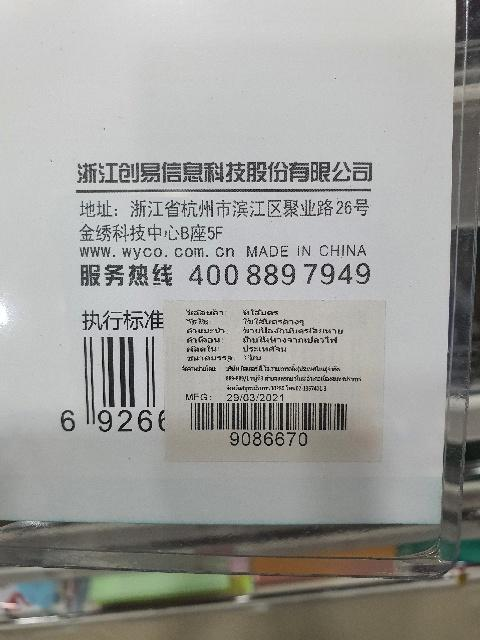Barcode: (180, 397, 356, 448)
